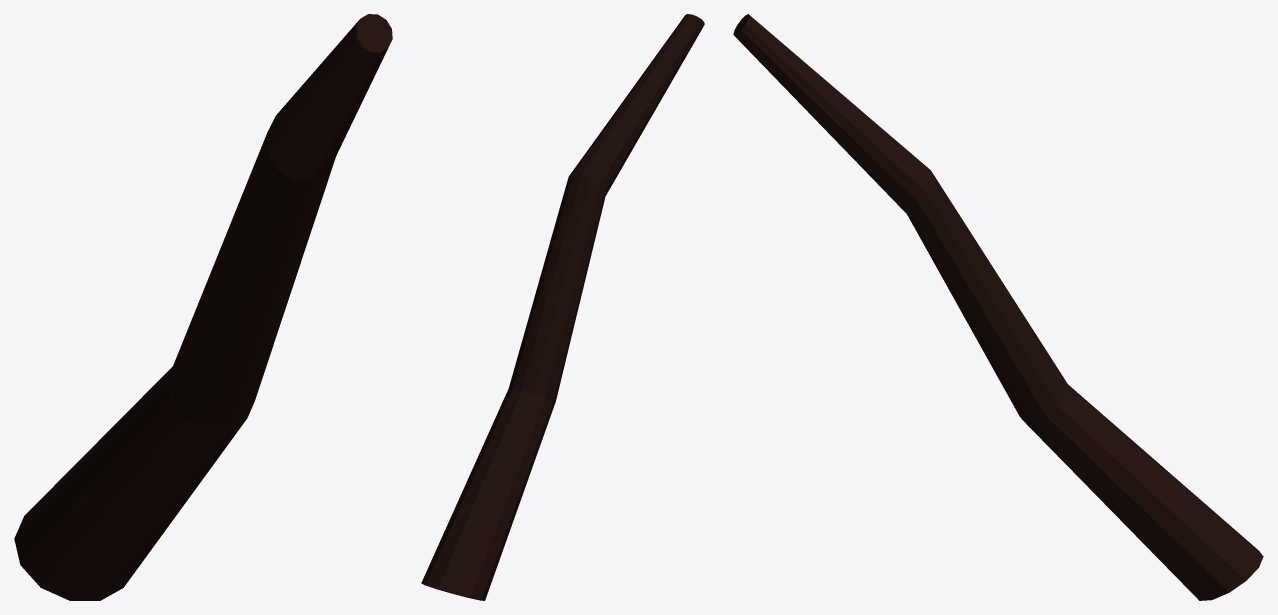
Rendered from canh1.obj.
3 views of the same model, side by side, from view 1: azimuth 30°, elevation 25°; view 2: azimuth 150°, elevation 25°; view 3: azimuth 270°, elevation 25° (orthographic). The views are drawn at different scales.
Visible parts, largest first — view 1: Cylinder.001; view 2: Cylinder.001; view 3: Cylinder.001.
Part boxes in pixels (left/top/right/bottom): Cylinder.001: left=14, top=14, right=392, bottom=600; Cylinder.001: left=421, top=14, right=704, bottom=600; Cylinder.001: left=733, top=14, right=1263, bottom=600.
Bounding box in the file's own units: 0.5247 × 2.93 × 2.53.
